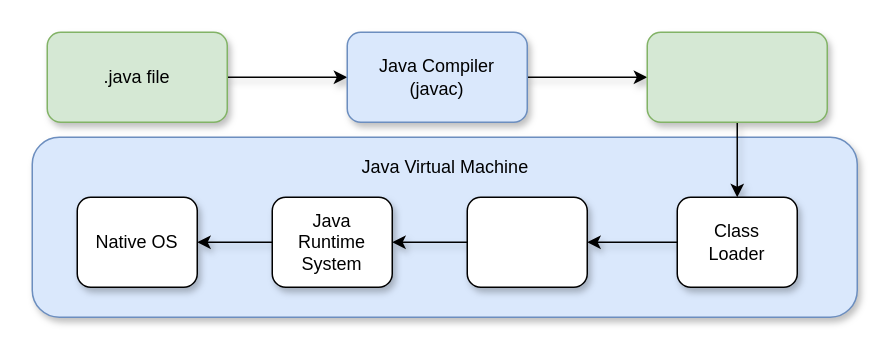
Image size: 893x354. Some labels were removed from this diagram. The shapes that lost their labels are listed below. From the top down, each one's centre as x and y in pixels, then its label:
the point at 738,79: .class file
the point at 528,244: Bytecode Verifier
